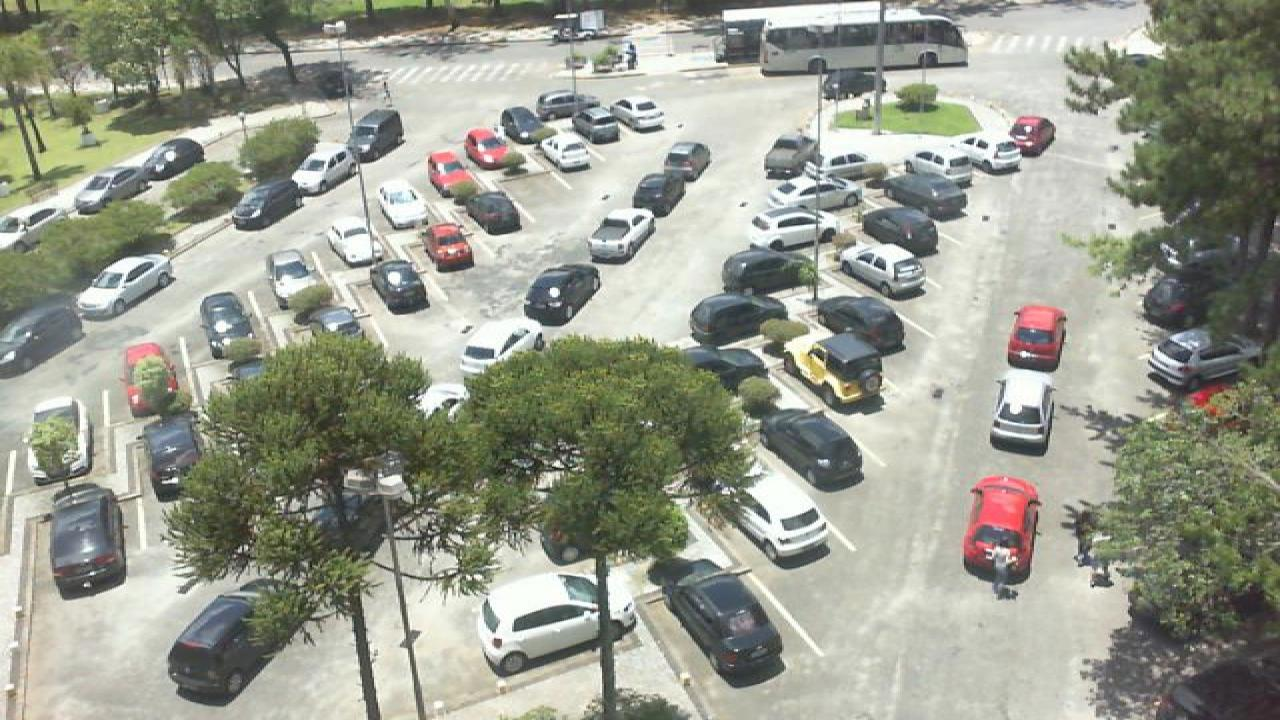Car: (476, 572, 640, 672), (666, 561, 782, 684), (166, 579, 282, 698), (726, 476, 830, 562), (1140, 325, 1264, 396), (48, 486, 132, 590), (964, 474, 1042, 584), (760, 408, 864, 490), (794, 333, 886, 414), (0, 292, 84, 377), (76, 252, 178, 321), (22, 398, 90, 496), (140, 414, 206, 510), (818, 296, 910, 358), (990, 370, 1058, 451), (838, 243, 930, 301), (456, 319, 546, 377), (690, 294, 788, 347), (524, 267, 604, 326), (684, 344, 778, 394), (120, 341, 180, 416), (196, 290, 260, 360), (860, 206, 940, 259), (750, 206, 842, 252), (720, 249, 804, 299), (1006, 304, 1068, 371), (884, 172, 970, 219), (230, 176, 304, 230), (586, 207, 658, 262), (1138, 268, 1208, 324), (288, 142, 360, 196), (764, 175, 858, 215), (70, 165, 142, 216), (346, 107, 406, 163), (370, 260, 430, 315), (262, 248, 318, 306), (324, 220, 388, 269), (0, 205, 68, 251), (140, 138, 206, 184), (904, 148, 982, 185), (808, 150, 888, 185), (630, 170, 688, 216), (422, 223, 476, 272), (956, 135, 1024, 173), (764, 134, 818, 180), (308, 304, 368, 345), (426, 150, 478, 196), (378, 186, 428, 232), (562, 106, 622, 144), (536, 131, 592, 171), (462, 127, 512, 171), (662, 142, 712, 184), (1006, 115, 1056, 156), (500, 106, 550, 145), (608, 97, 666, 129), (534, 90, 594, 118)
